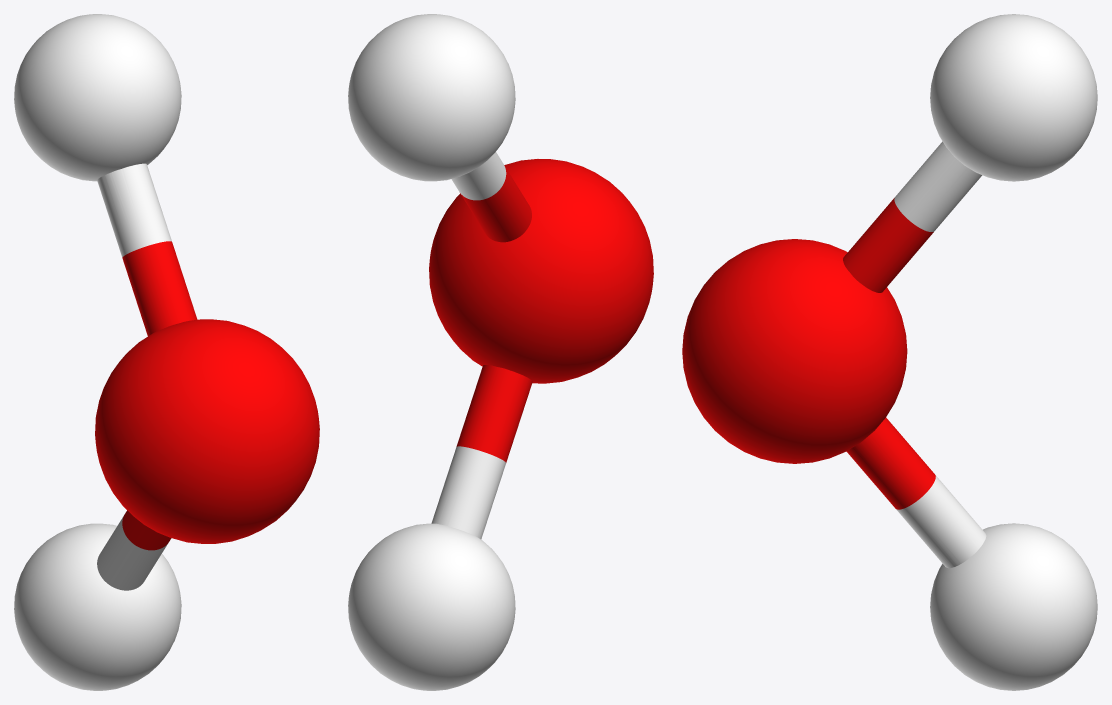
Rendered from timeworx-water-4617.glb.
3 renders of one model, left to right at view 1: azimuth 30°, elevation 25°; view 2: azimuth 150°, elevation 25°; view 3: azimuth 270°, elevation 25°, orthographic.
Parts seen in each view (by area): view 1: H2O; view 2: H2O; view 3: H2O.
Part boxes in pixels (box(x1,y1,x2,y2)): H2O: box(14, 14, 319, 690); H2O: box(348, 14, 653, 690); H2O: box(682, 14, 1097, 690).
Size of the model in its own units: 2.27 by 7.36 by 4.19.
